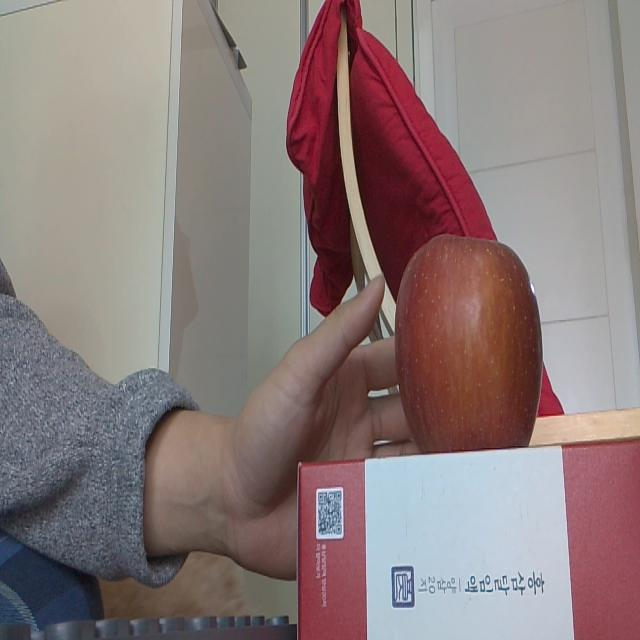apple: (393, 230, 542, 446)
